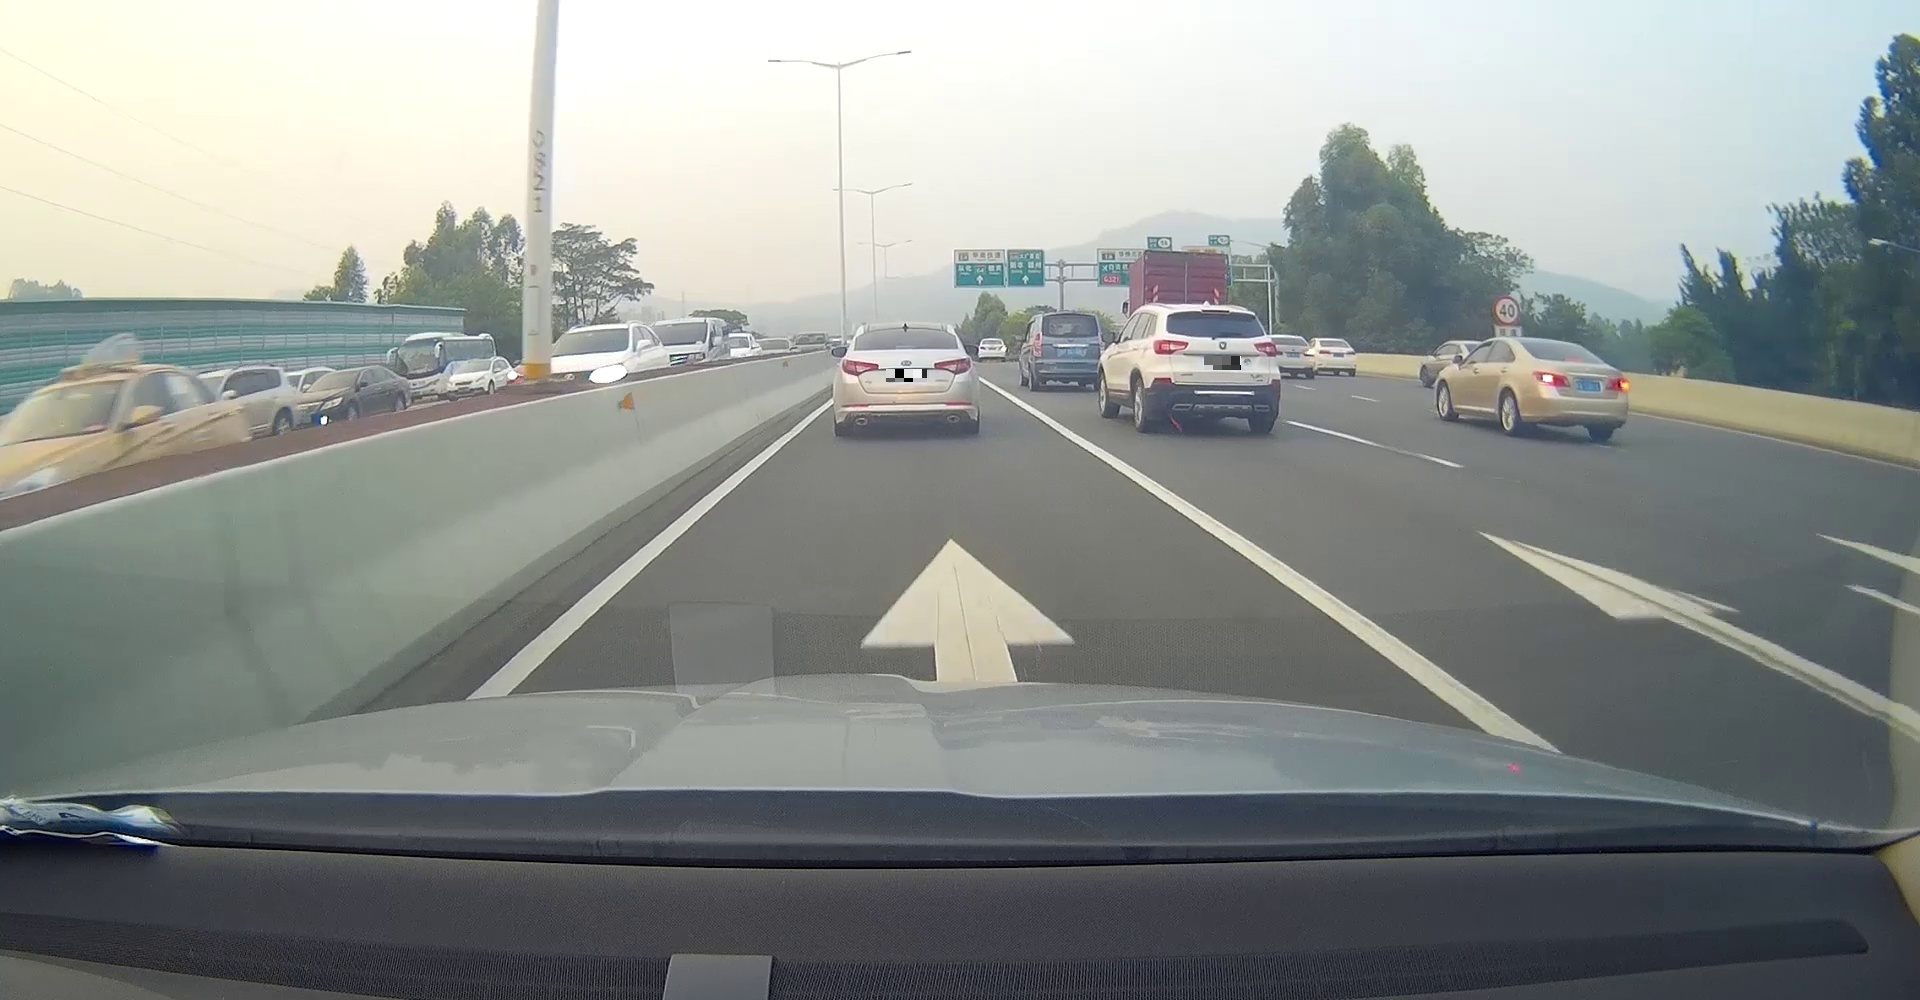L_light: (839, 359, 877, 376), (1531, 371, 1570, 387), (1153, 339, 1189, 355), (1034, 332, 1043, 357)
R_light: (933, 357, 971, 376), (1256, 341, 1277, 358), (1606, 376, 1629, 391), (1098, 332, 1105, 357)
T_light: (1203, 308, 1230, 313), (1566, 357, 1585, 362), (897, 345, 919, 349), (1063, 332, 1078, 336)
day-no: (1149, 305, 1283, 433), (832, 320, 979, 435), (1029, 312, 1106, 391)
day-right: (1514, 336, 1630, 442)
plate_1: (886, 369, 927, 382)
plate_2: (1204, 357, 1241, 371)
